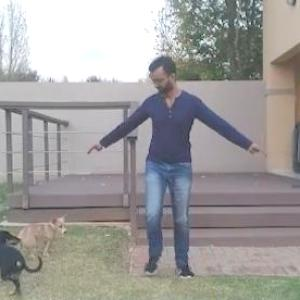land: (94, 57, 280, 282)
